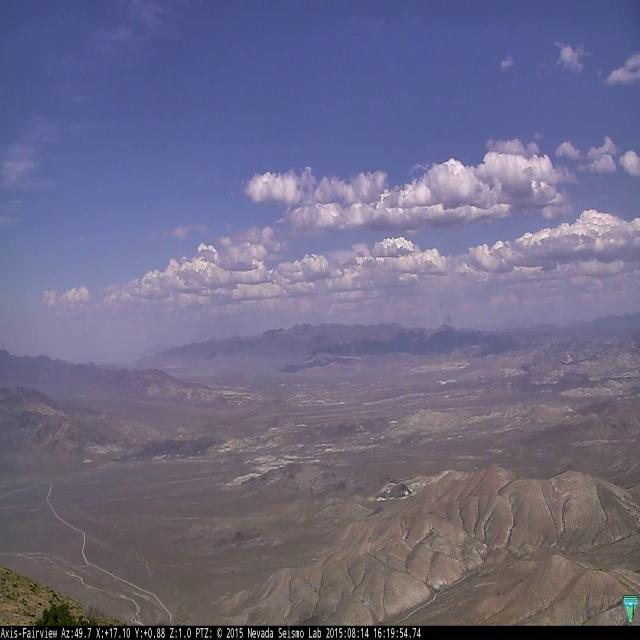smoke: (439, 302, 456, 351)
